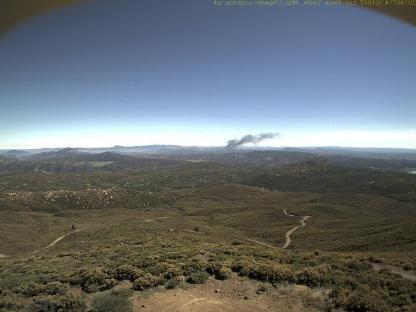smoke: (222, 128, 280, 152)
